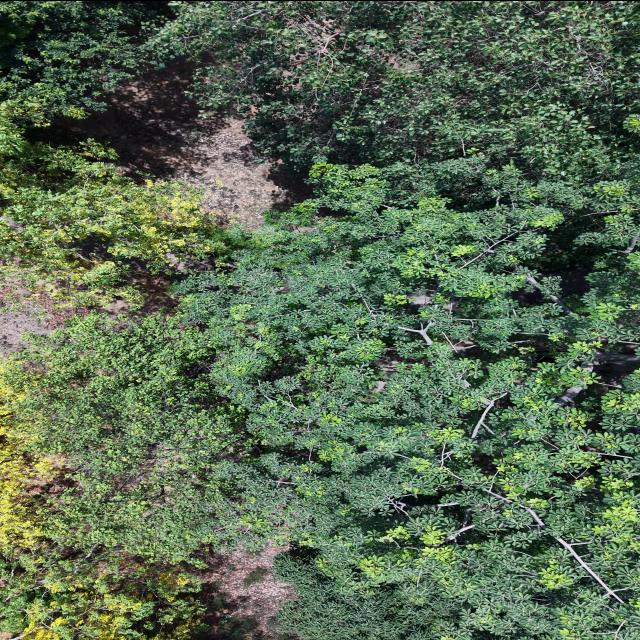DRY_AREA: (41, 59, 303, 229), (46, 59, 299, 229), (48, 59, 298, 229), (139, 545, 295, 639), (194, 545, 295, 639), (0, 281, 88, 354), (0, 284, 79, 355), (0, 311, 51, 354)
VEGETATION_TREE: (0, 1, 639, 639), (3, 164, 636, 639), (179, 159, 636, 639), (0, 1, 639, 178), (146, 1, 639, 179), (0, 102, 226, 306), (0, 1, 169, 118)
